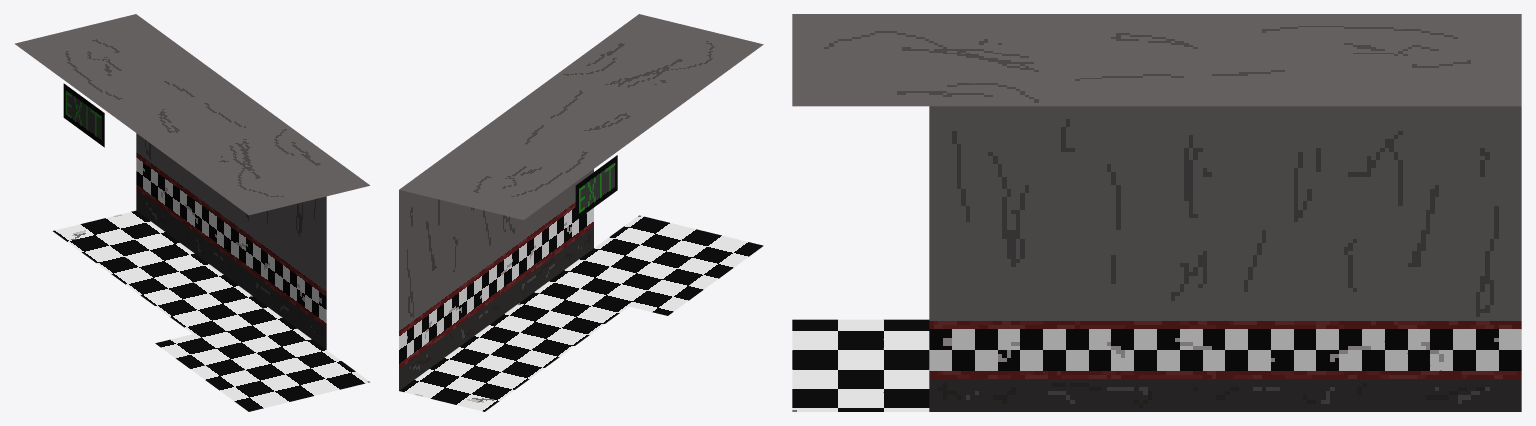
Rendered from exit.gltf.
3 views of the same model, side by side, from view 1: azimuth 30°, elevation 25°; view 2: azimuth 150°, elevation 25°; view 3: azimuth 270°, elevation 25° (orthographic). The views are drawn at different scales.
Visible parts, largest first — view 1: exitceiling, exitfloor, exitwall, exitsign, exitsignneon; view 2: exitceiling, exitfloor, exitwall, exitsign; view 3: exitwall, exitceiling, exitfloor.
Part boxes in pixels (x1=…): exitceiling: x1=14, y1=14, x2=369, y2=215; exitfloor: x1=53, y1=210, x2=370, y2=411; exitwall: x1=136, y1=133, x2=326, y2=349; exitsign: x1=63, y1=83, x2=104, y2=147; exitsignneon: x1=65, y1=91, x2=100, y2=136; exitceiling: x1=399, y1=14, x2=763, y2=219; exitfloor: x1=399, y1=215, x2=763, y2=411; exitwall: x1=399, y1=169, x2=593, y2=390; exitsign: x1=575, y1=155, x2=617, y2=220; exitwall: x1=929, y1=106, x2=1521, y2=411; exitceiling: x1=792, y1=14, x2=1521, y2=106; exitfloor: x1=792, y1=319, x2=929, y2=411.
Bounding box in the file's own units: 3.03 × 4.62 × 10.
5 materials, 5 textured.
